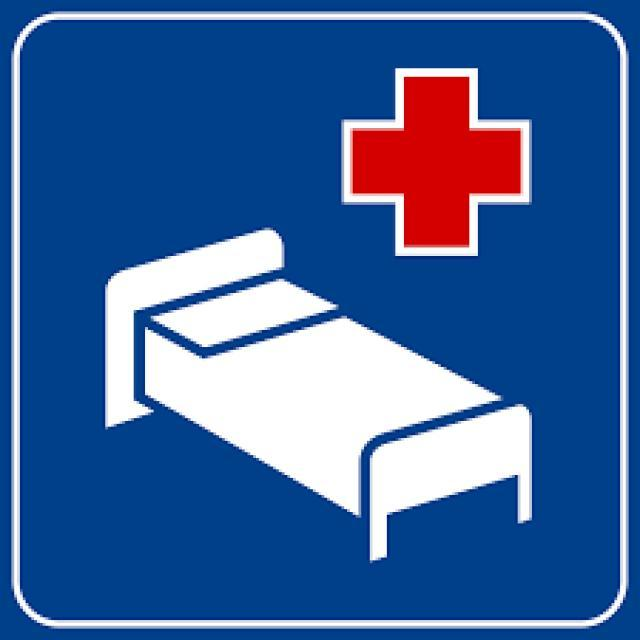hospital ahead: (41, 43, 585, 558)
